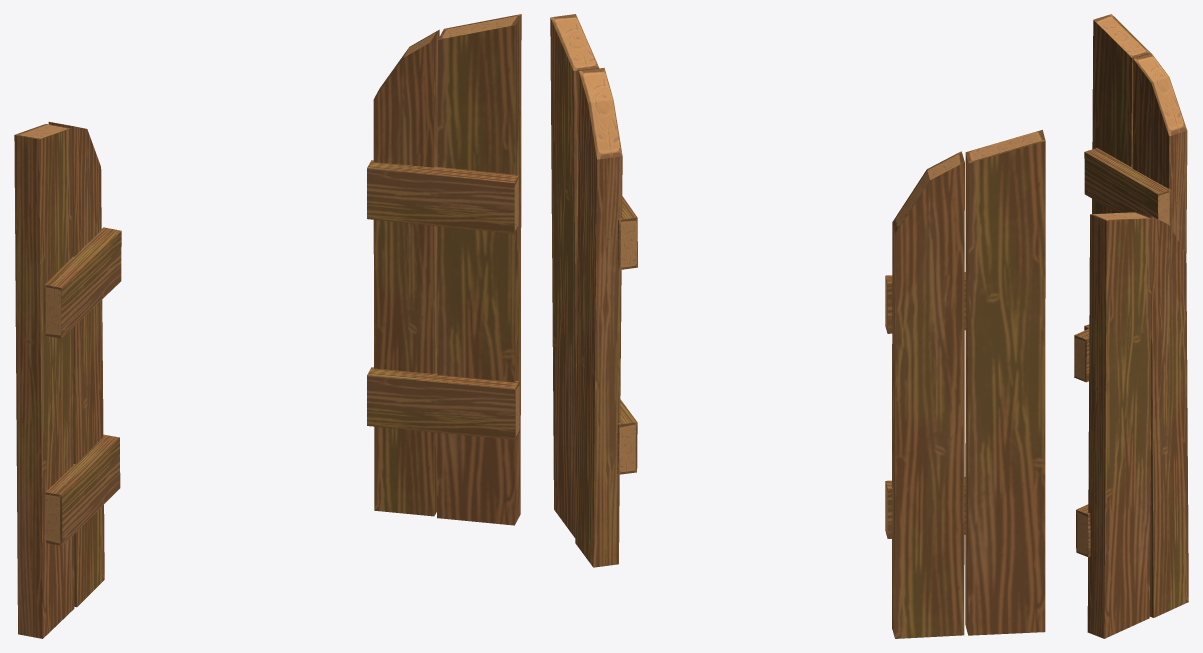
File: WindowShutters_Thin_Round_Open.gltf
The picture shows the model from 3 angles, left to right: view 1: azimuth 30°, elevation 25°; view 2: azimuth 150°, elevation 25°; view 3: azimuth 270°, elevation 25°; orthographic projection. The views are drawn at different scales.
Parts seen in each view (by area): view 1: WindowShutters_Thin_Round_Open; view 2: WindowShutters_Thin_Round_Open; view 3: WindowShutters_Thin_Round_Open.
Boxes of the visible parts, box(x1,y1,x2,y2) form: WindowShutters_Thin_Round_Open: box(14, 14, 521, 638); WindowShutters_Thin_Round_Open: box(550, 14, 1045, 638); WindowShutters_Thin_Round_Open: box(1074, 14, 1188, 638).
Bounding box in the file's own units: 1.61 × 1.52 × 0.3765.
1 material, 1 textured.
